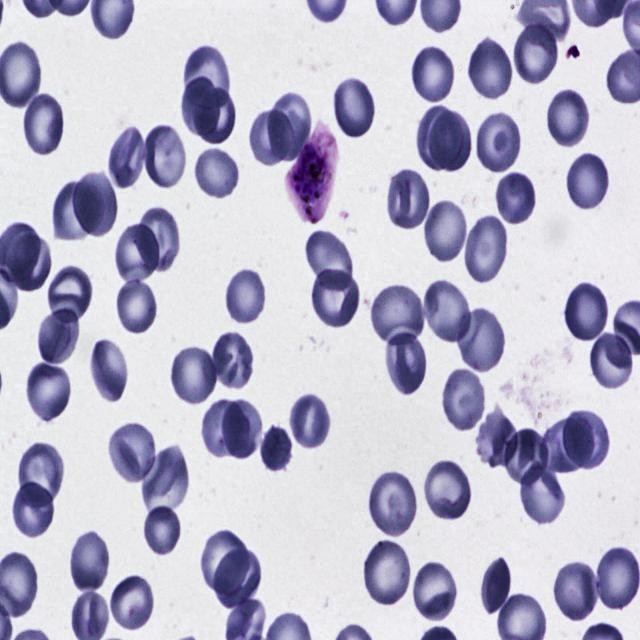red blood cell: (368, 281, 428, 347), (366, 468, 418, 539), (17, 439, 68, 509), (463, 211, 510, 286), (456, 306, 506, 376), (421, 277, 473, 344), (133, 204, 181, 276), (201, 530, 251, 599), (106, 420, 159, 485), (415, 102, 464, 172), (362, 536, 411, 606), (424, 458, 474, 524), (593, 542, 640, 612), (140, 447, 189, 514), (212, 548, 264, 611), (266, 90, 309, 166), (473, 109, 522, 175), (551, 558, 600, 624), (512, 19, 560, 86), (440, 366, 487, 433), (467, 36, 515, 101), (182, 45, 230, 110), (72, 170, 118, 237), (106, 122, 150, 192), (562, 279, 610, 343), (563, 407, 611, 471), (423, 197, 468, 265), (311, 268, 361, 329), (518, 463, 566, 526), (51, 178, 98, 242), (86, 338, 132, 403), (144, 121, 186, 192), (168, 348, 218, 407), (385, 168, 432, 230), (543, 417, 594, 473), (412, 562, 458, 624), (427, 110, 473, 172), (474, 405, 517, 471), (24, 363, 72, 422), (246, 108, 291, 170), (47, 262, 94, 321), (546, 86, 590, 149), (114, 222, 158, 285), (410, 43, 456, 103), (590, 329, 635, 389), (566, 150, 610, 211), (305, 233, 352, 290), (210, 332, 255, 391), (200, 399, 245, 458), (22, 92, 64, 155), (66, 531, 110, 591), (386, 328, 426, 394), (503, 429, 549, 486), (334, 76, 376, 138), (36, 308, 80, 367), (8, 234, 52, 292), (11, 480, 54, 539), (182, 76, 222, 138), (194, 147, 240, 200), (110, 575, 154, 630), (222, 399, 262, 459), (116, 278, 157, 336), (225, 268, 267, 324), (495, 170, 536, 226), (289, 394, 330, 449), (196, 86, 236, 142), (259, 421, 293, 476), (145, 505, 181, 556), (480, 555, 511, 614)
schizont: (286, 118, 336, 224)
